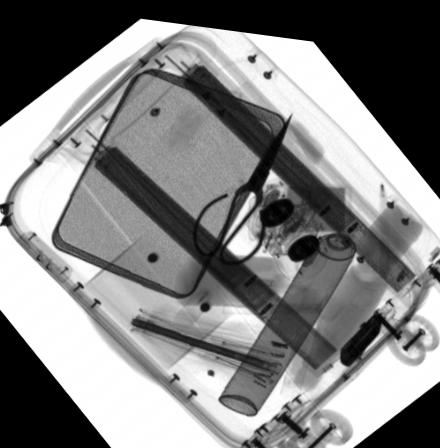Lighter: (340, 300, 381, 357)
Powerbank: (249, 175, 354, 237)
Scissors: (191, 105, 292, 261)
Sprayer: (220, 221, 358, 412)
